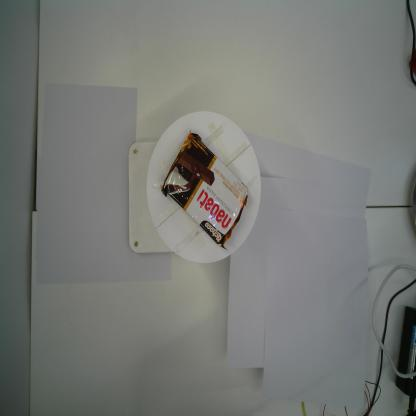Dessert: (158, 129, 252, 250)
